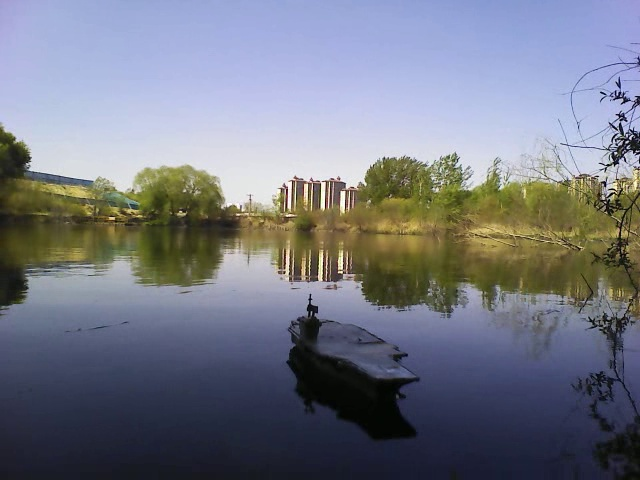aircraft_carrier: (286, 298, 422, 393)
